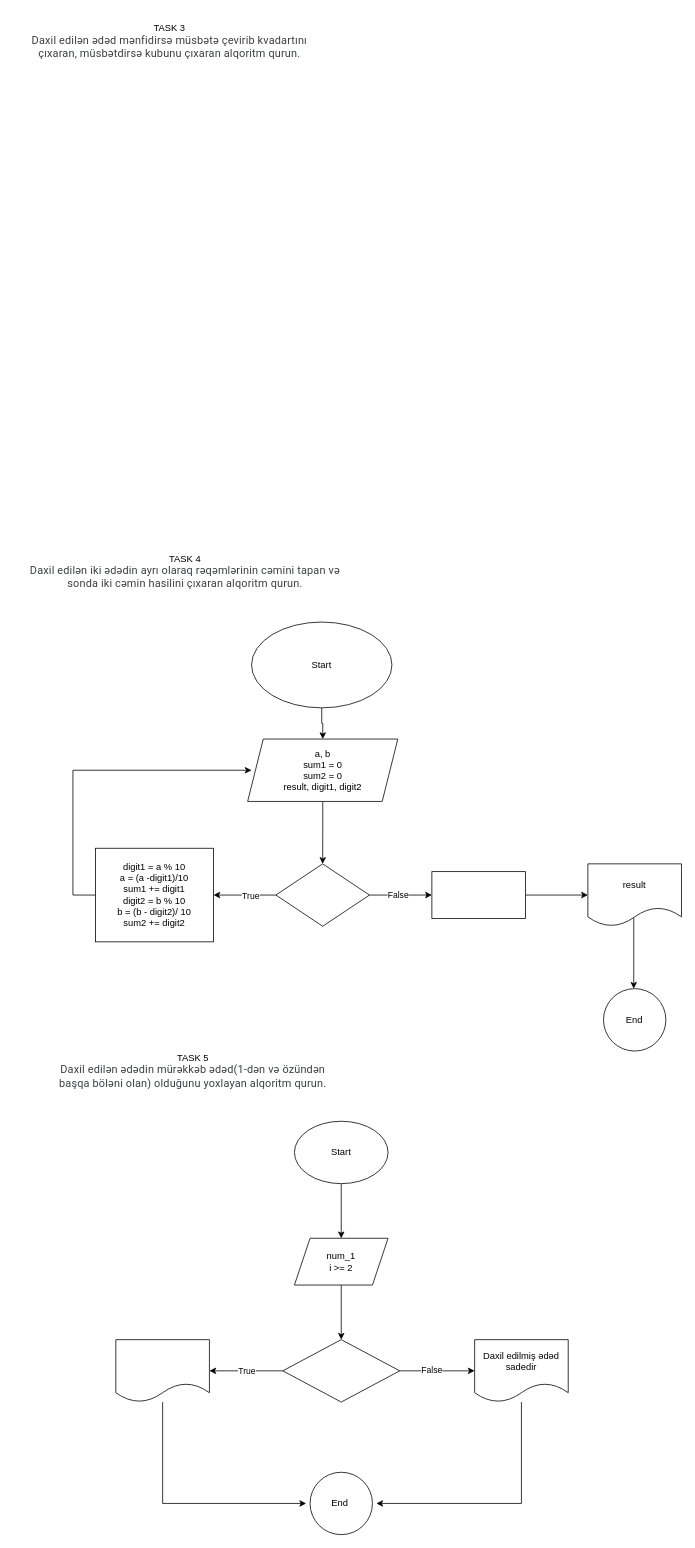
Some shapes in this 695 by 1548 pixel diagram are drawn without their labels. Each missing label, with the centre of its shape:
a > 0 && b > 0: the point at 322,894
Daxil edilmiş ədəd mürəkkəbdir: the point at 162,1370
num_1 / i: the point at 341,1370
result = sum1 * sum2: the point at 478,894
